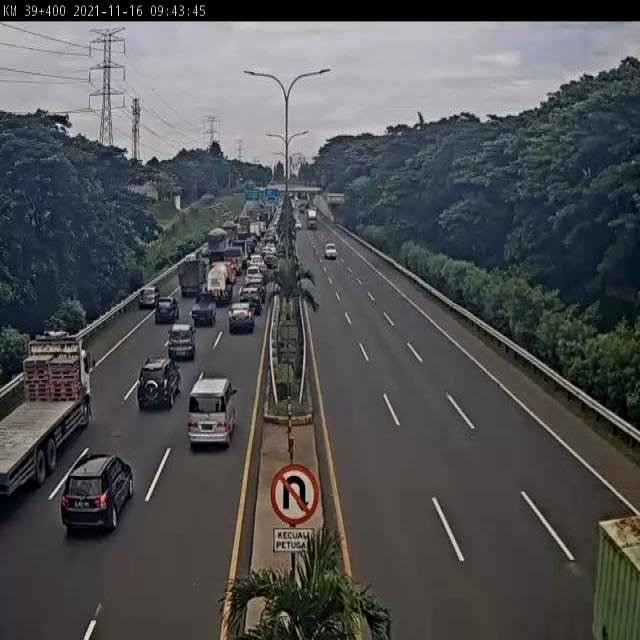Car: (58, 446, 136, 544), (186, 374, 236, 446), (138, 355, 182, 409), (167, 323, 197, 361), (228, 303, 255, 334), (191, 297, 217, 327), (239, 284, 263, 314), (155, 296, 179, 324), (139, 286, 159, 310), (324, 243, 337, 260), (295, 222, 302, 230)
Truck: (0, 332, 89, 519), (584, 482, 639, 640), (178, 244, 211, 294), (205, 257, 242, 300), (206, 225, 228, 252), (304, 209, 320, 234)
